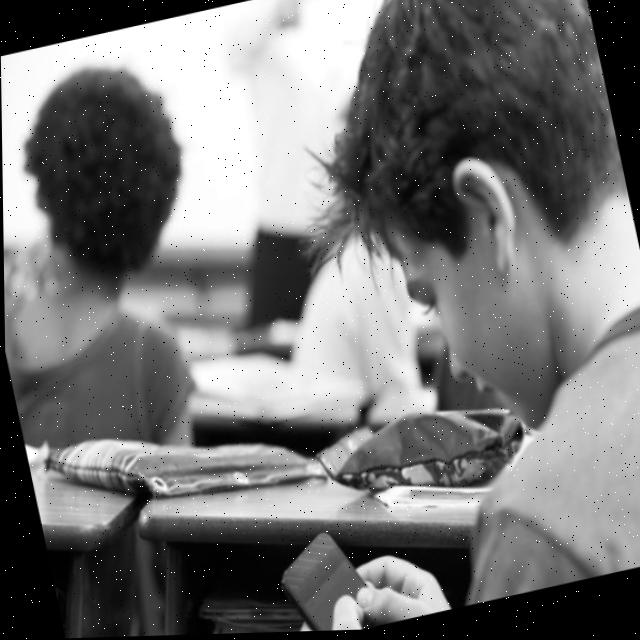phone: (254, 502, 432, 634)
